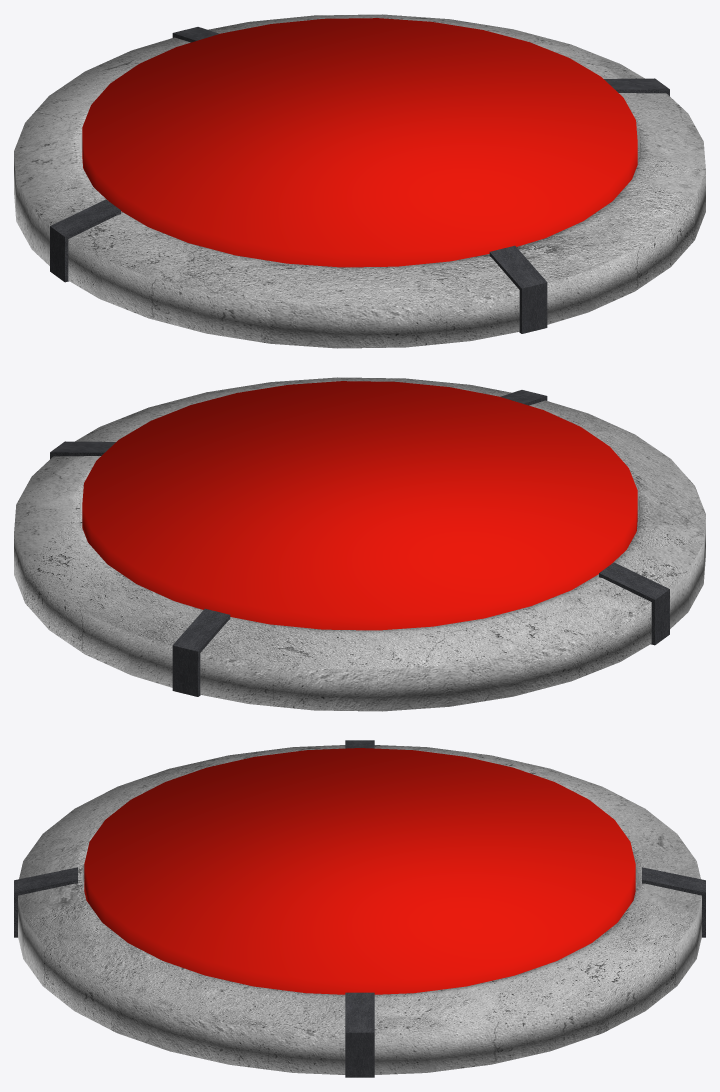
Rendered from floor_button.glb.
The picture shows the model from 3 angles, top to bottom: view 1: azimuth 30°, elevation 25°; view 2: azimuth 150°, elevation 25°; view 3: azimuth 270°, elevation 25°; orthographic projection.
Parts seen in each view (by area): view 1: Цилиндр, Цилиндр.001, Куб.004; view 2: Цилиндр, Цилиндр.001, Куб.004; view 3: Цилиндр, Цилиндр.001, Куб.004.
Part boxes in pixels (<box>): Цилиндр: <box>82,18,637,267</box>; Цилиндр.001: <box>14,14,705,348</box>; Куб.004: <box>50,27,669,333</box>; Цилиндр: <box>82,381,637,630</box>; Цилиндр.001: <box>14,377,705,711</box>; Куб.004: <box>50,390,669,696</box>; Цилиндр: <box>84,748,635,994</box>; Цилиндр.001: <box>18,745,701,1074</box>; Куб.004: <box>14,740,705,1077</box>.
Bounding box in the file's own units: 2.51 × 0.2682 × 2.51.
Materials: 3 (2 with a texture image).
